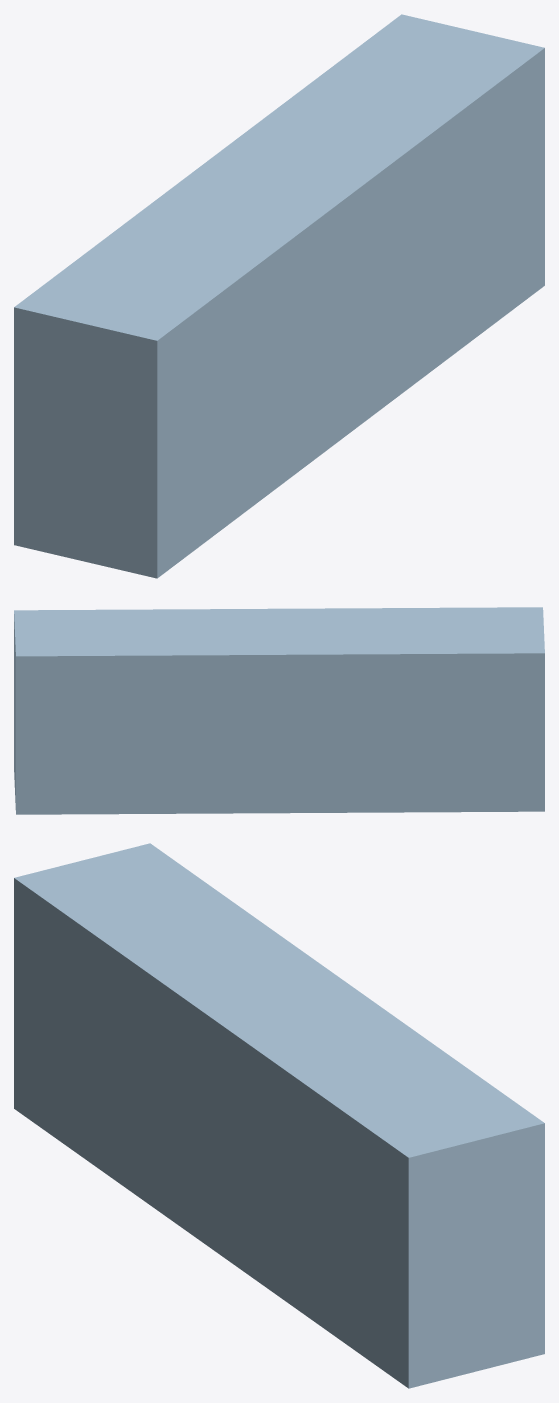
Rendered from osm_way_225265324.glb.
3 renders of one model, top to bottom at view 1: azimuth 30°, elevation 25°; view 2: azimuth 150°, elevation 25°; view 3: azimuth 270°, elevation 25°, orthographic. The views are drawn at different scales.
Parts seen in each view (by area): view 1: osm_way_225265324; view 2: osm_way_225265324; view 3: osm_way_225265324.
Part boxes in pixels (x1,y1,x2,y2): osm_way_225265324: [14, 14, 544, 578]; osm_way_225265324: [14, 607, 544, 814]; osm_way_225265324: [14, 843, 544, 1388].
Bounding box in the file's own units: 56.12 × 19.2 × 40.03.
